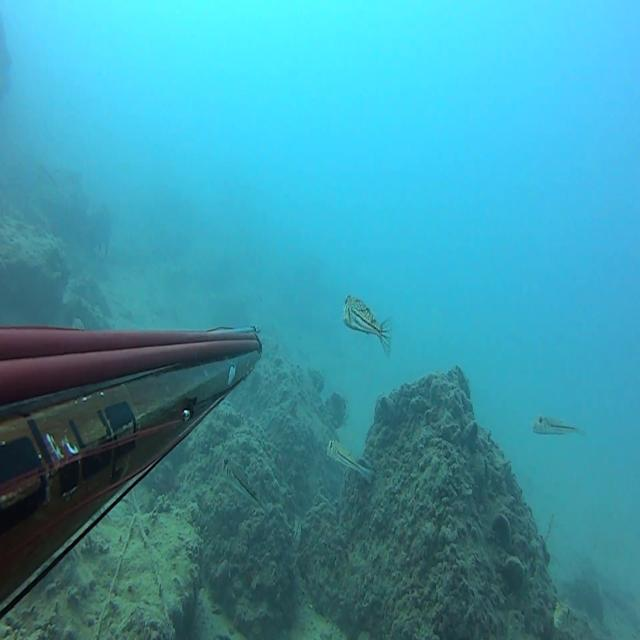Balon Baligi: (343, 295, 393, 359), (222, 456, 268, 512), (326, 440, 374, 483), (533, 416, 583, 436), (554, 602, 581, 631)
